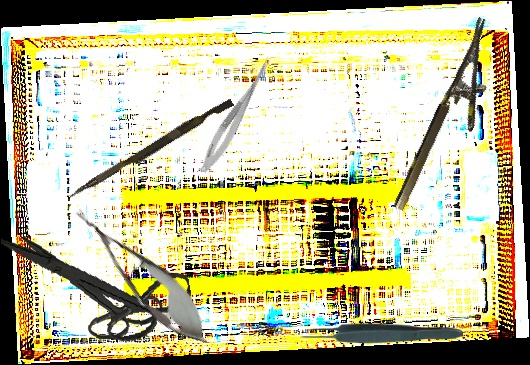Iris Scissors: (0, 206, 198, 362), (15, 236, 167, 343)
Micro Scissor: (60, 193, 224, 358), (196, 51, 276, 177)
Needle Holder: (391, 16, 517, 224)
Pusher: (67, 94, 235, 205)
Tissue Forceps: (300, 322, 463, 344)
